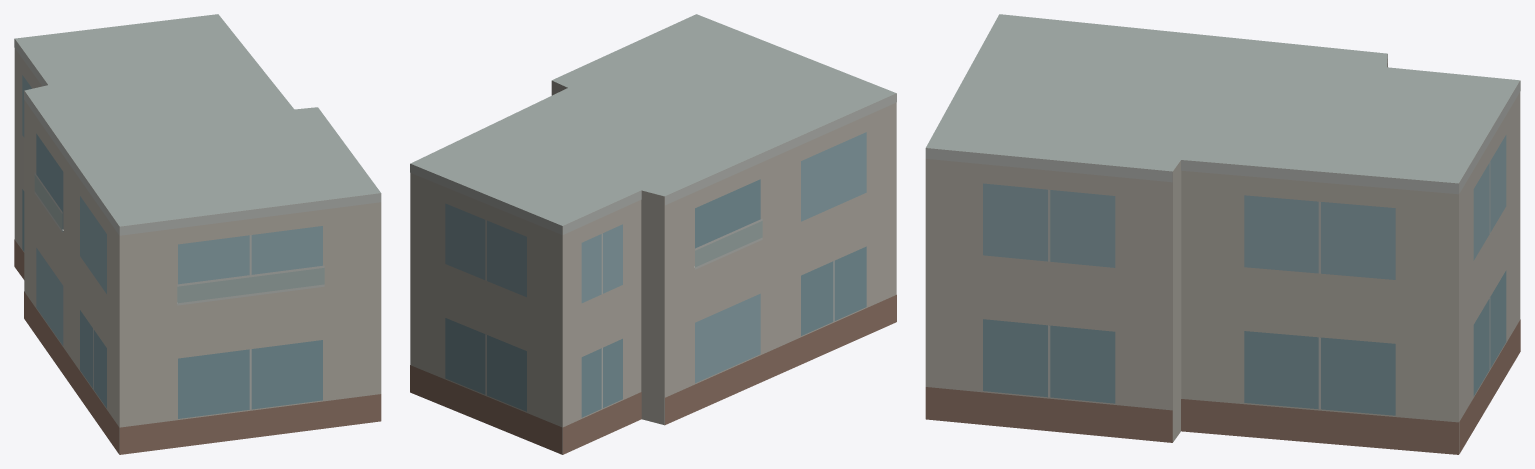
File: survey-upis-32684997.glb
3 renders of one model, left to right at view 1: azimuth 30°, elevation 25°; view 2: azimuth 150°, elevation 25°; view 3: azimuth 270°, elevation 25°, orthographic. The views are drawn at different scales.
Parts seen in each view (by area): view 1: survey-upis-32684997.tmp; view 2: survey-upis-32684997.tmp; view 3: survey-upis-32684997.tmp.
Boxes of the visible parts, x1=… form: survey-upis-32684997.tmp: x1=14, y1=14, x2=381, y2=454; survey-upis-32684997.tmp: x1=410, y1=14, x2=896, y2=454; survey-upis-32684997.tmp: x1=925, y1=14, x2=1520, y2=454.
Bounding box in the file's own units: 8.18 × 6.1 × 12.13.
